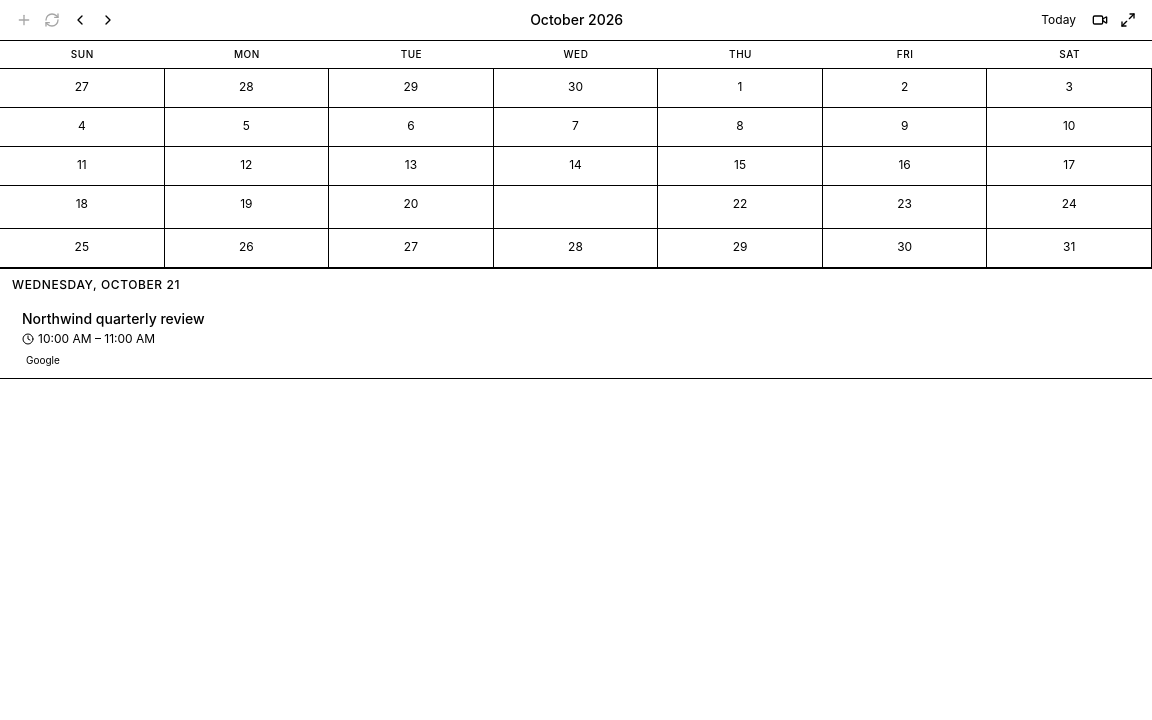
Scenario: calendar delete confirmation gate › backing out leaves the event alone
The width and height of the screenshot is (1152, 720).
Click the text "Northwind quarterly review" at (113, 318), box [22,310,205,327]
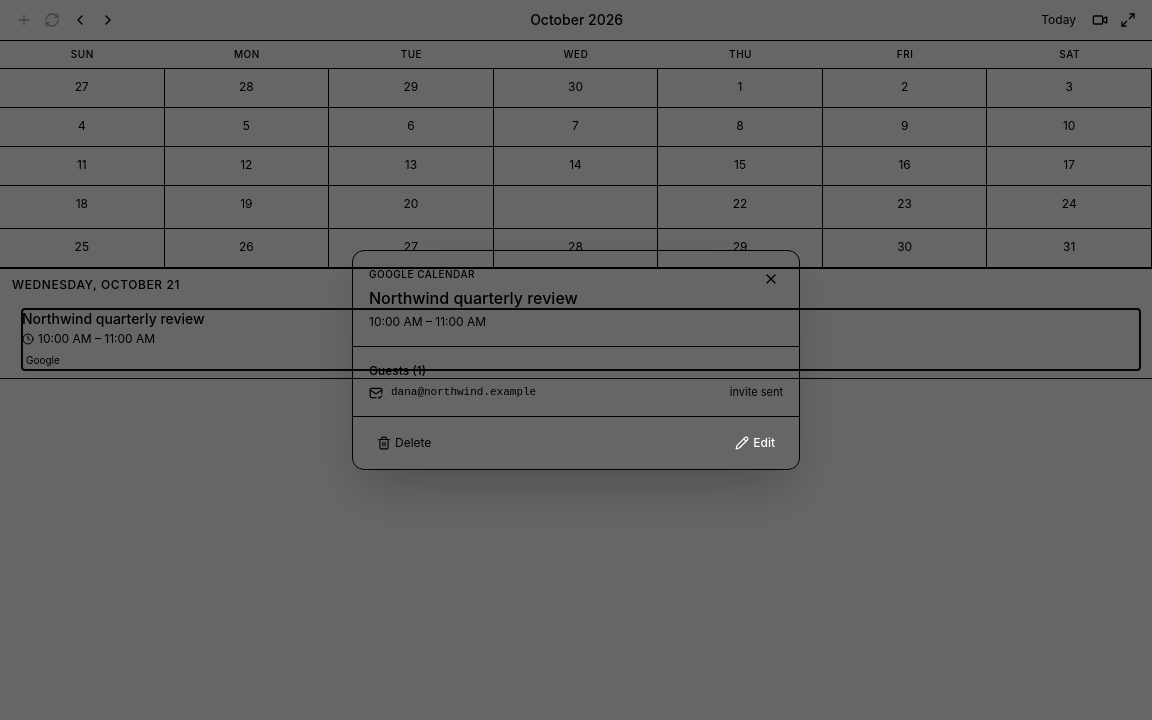
Click the button "Delete" at (404, 443), box [369,429,439,457]
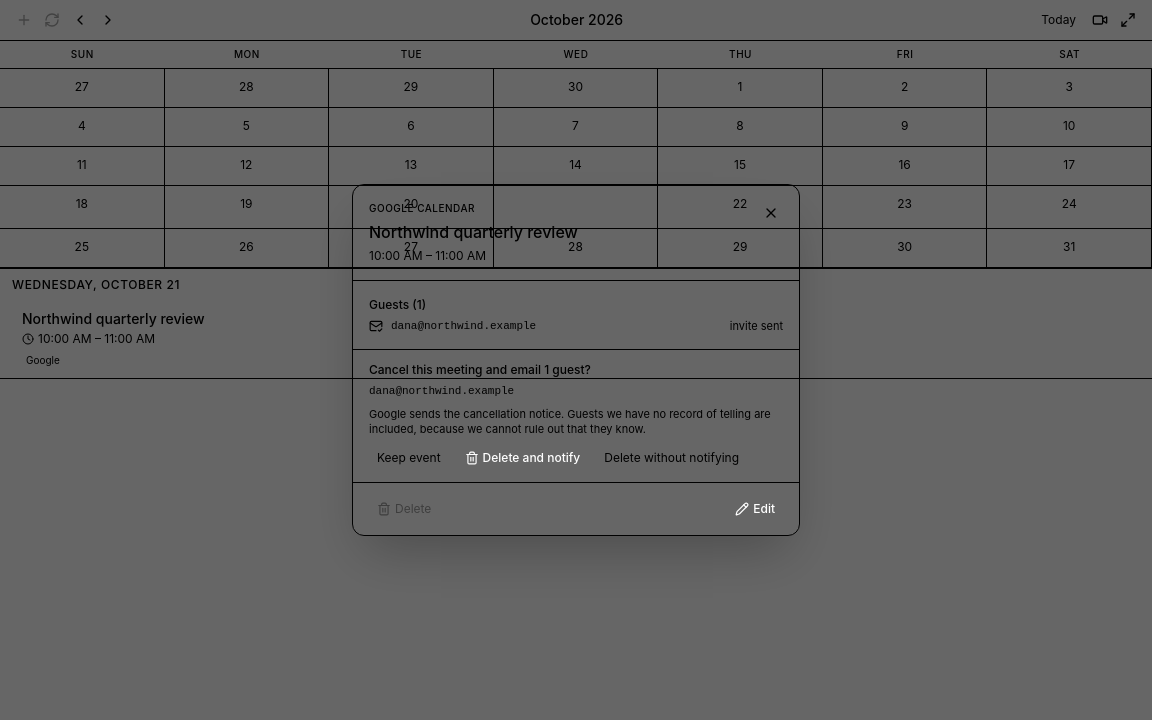
Click the button "Keep event" at (409, 458), box [369,446,449,470]
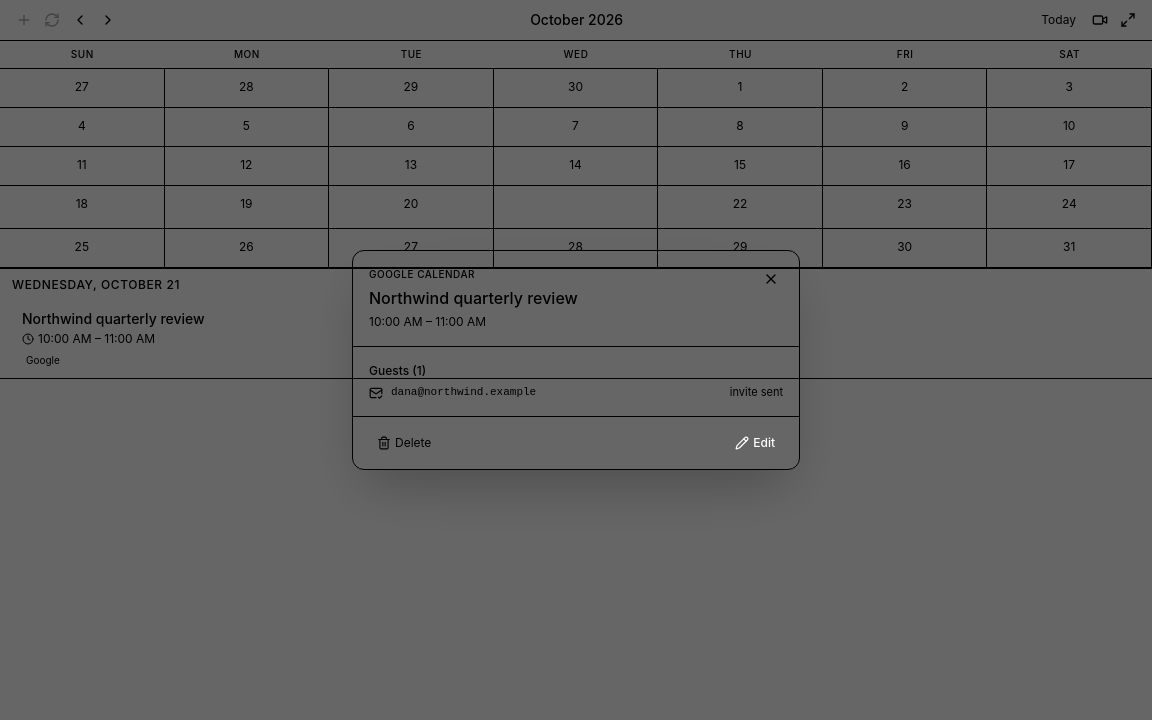
Expected: the text "Cancel this meeting and email" is gone
